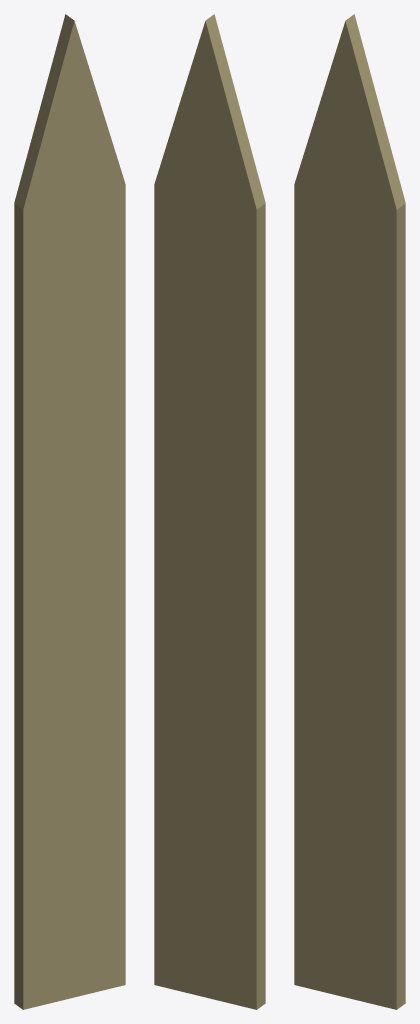
The model's file is Fence(8).fbx.
The picture shows the model from 3 angles, left to right: view 1: azimuth 30°, elevation 25°; view 2: azimuth 150°, elevation 25°; view 3: azimuth 330°, elevation 25°; orthographic projection.
Visible parts, largest first — view 1: Cube.059; view 2: Cube.059; view 3: Cube.059.
Boxes of the visible parts, x1,y1,x2,y2 form: Cube.059: (14,14,125,1009); Cube.059: (154,14,265,1009); Cube.059: (294,14,405,1009).
Bounding box in the file's own units: 20.2 × 184 × 3.09.
1 material, 1 textured.
